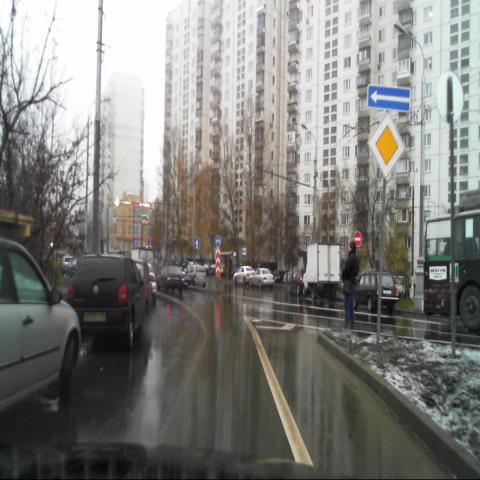5_7_2: (367, 84, 410, 112)
